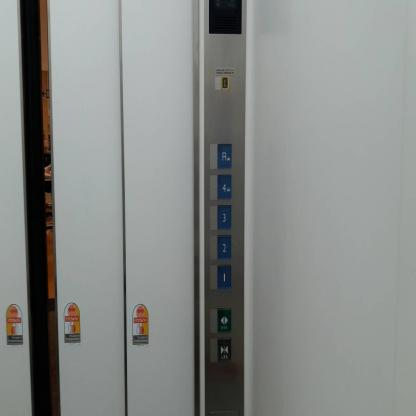1: (217, 264, 231, 288)
2: (216, 235, 231, 259)
3: (217, 204, 231, 230)
4: (217, 174, 231, 199)
R: (217, 143, 231, 169)
call: (221, 76, 229, 90)
close: (217, 337, 231, 362)
open: (217, 308, 231, 332)
